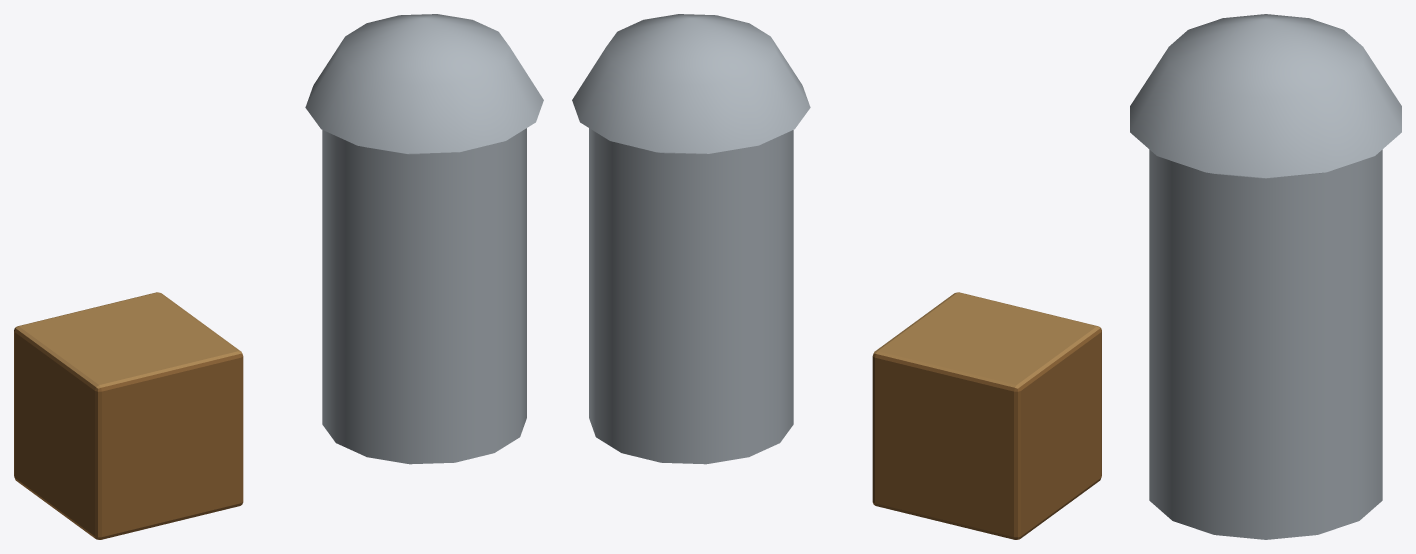
File: _smoketest.glb
The picture shows the model from 3 angles, left to right: view 1: azimuth 30°, elevation 25°; view 2: azimuth 150°, elevation 25°; view 3: azimuth 270°, elevation 25°; orthographic projection. The views are drawn at different scales.
Parts seen in each view (by area): view 1: SmokeTest; view 2: SmokeTest; view 3: SmokeTest.
Part boxes in pixels (x1,y1,x2,y2): SmokeTest: [14, 14, 543, 539]; SmokeTest: [572, 14, 1101, 539]; SmokeTest: [1130, 14, 1401, 539].
Size of the model in its own units: 3.2 by 2.6 by 1.36.
